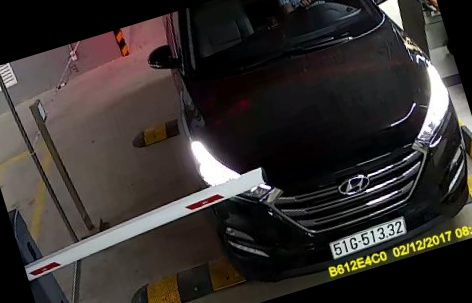plate: (318, 201, 408, 259)
